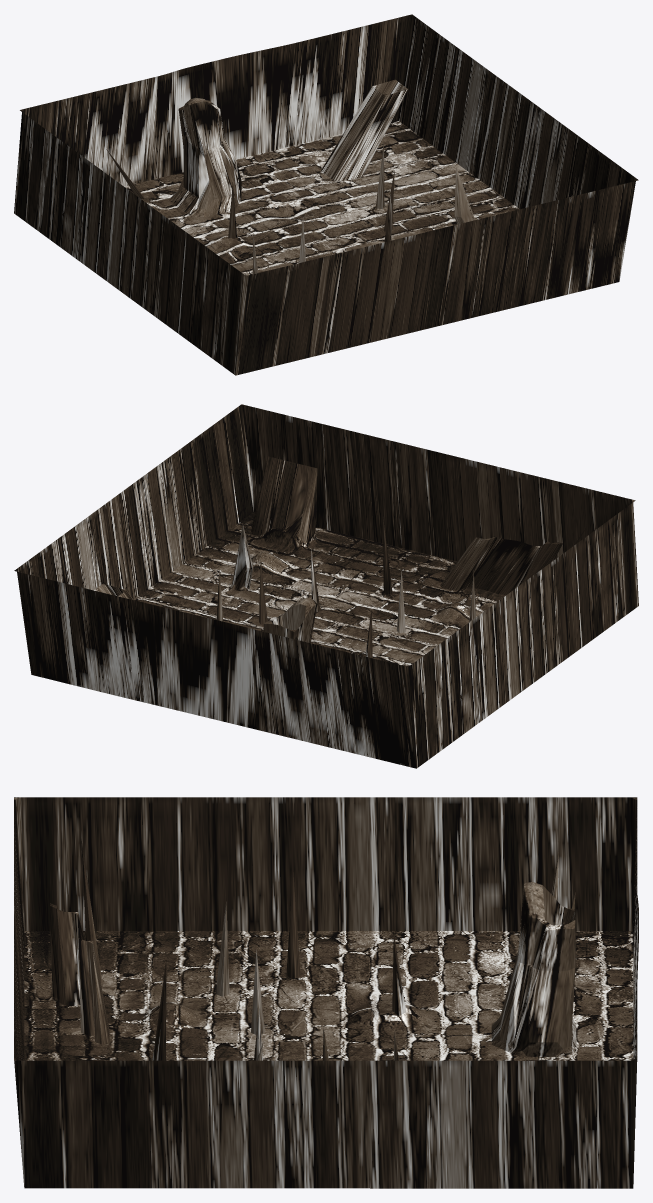
The model's file is mundo_irregular_tijolo.dae.
The picture shows the model from 3 angles, top to bottom: view 1: azimuth 30°, elevation 25°; view 2: azimuth 150°, elevation 25°; view 3: azimuth 270°, elevation 25°; orthographic projection. The views are drawn at different scales.
Visible parts, largest first — view 1: Plane; view 2: Plane; view 3: Plane.
Part boxes in pixels (x1=…): Plane: x1=14, y1=14, x2=638, y2=375; Plane: x1=14, y1=404, x2=638, y2=768; Plane: x1=14, y1=797, x2=638, y2=1188.
Bounding box in the file's own units: 53.69 × 52.91 × 14.08.
Materials: 1 (1 with a texture image).
